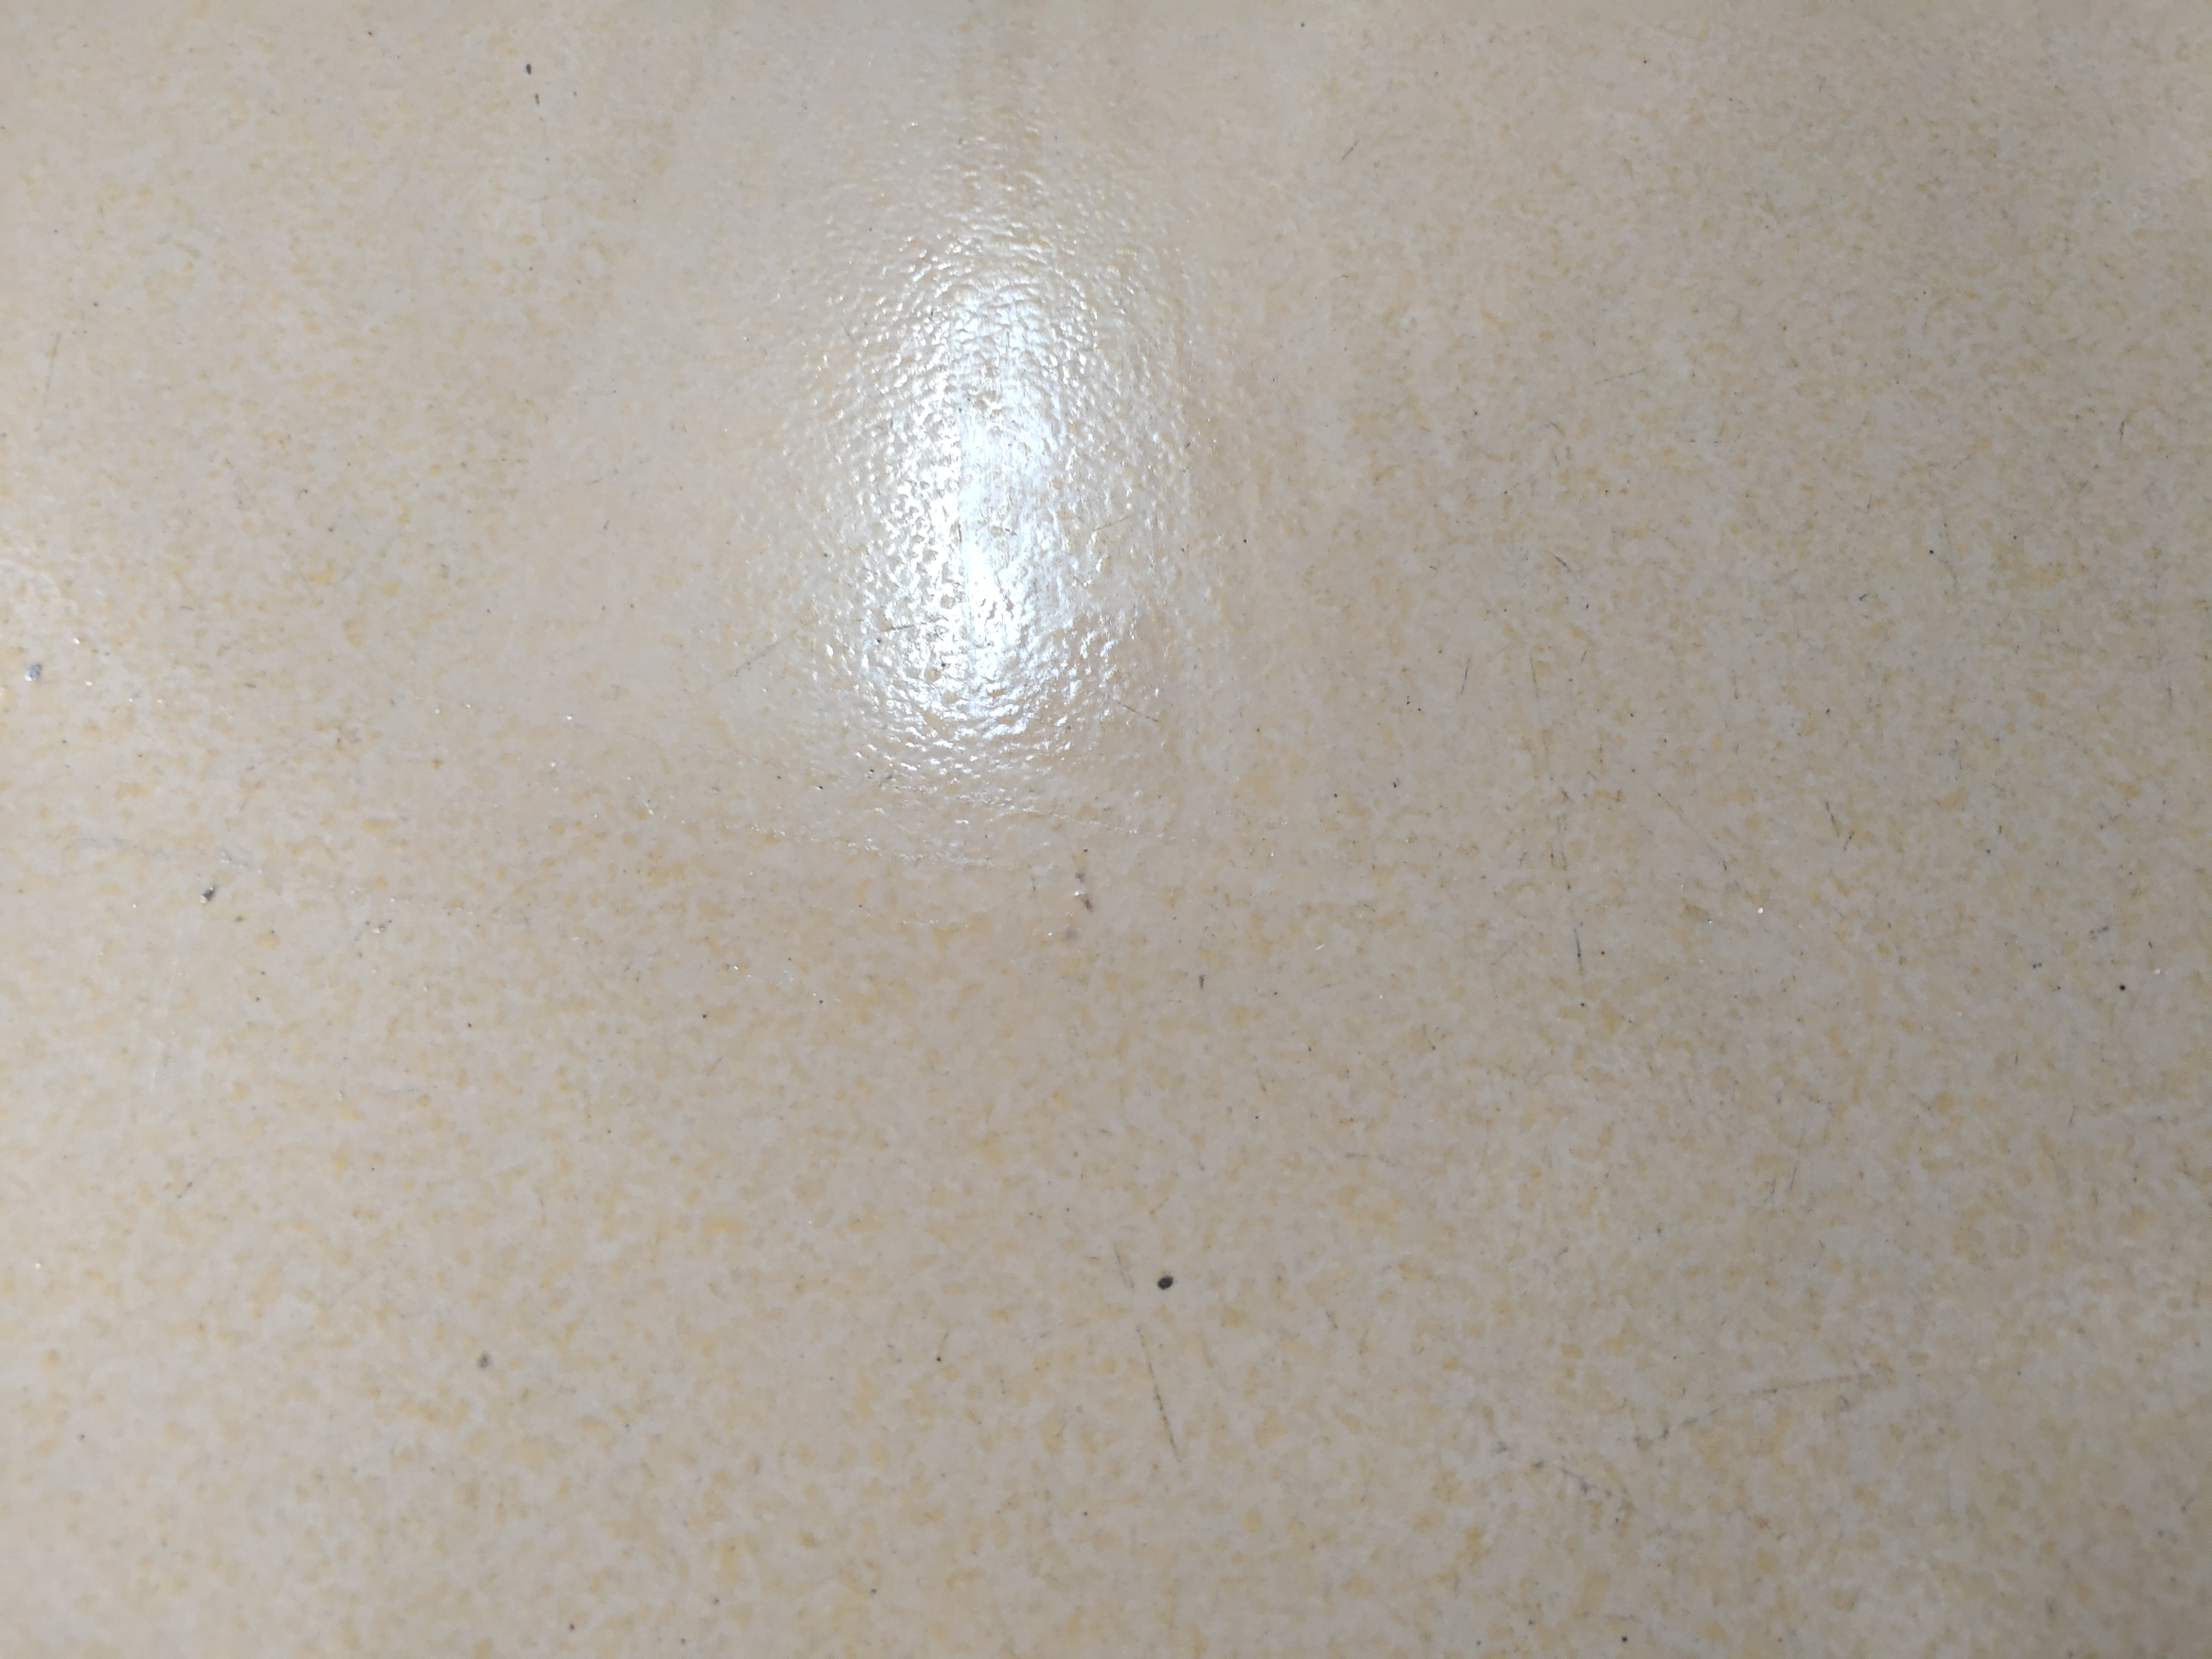reflection: (843, 230, 1115, 749)
